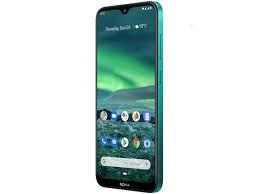Smartphone: (90, 5, 170, 191)
